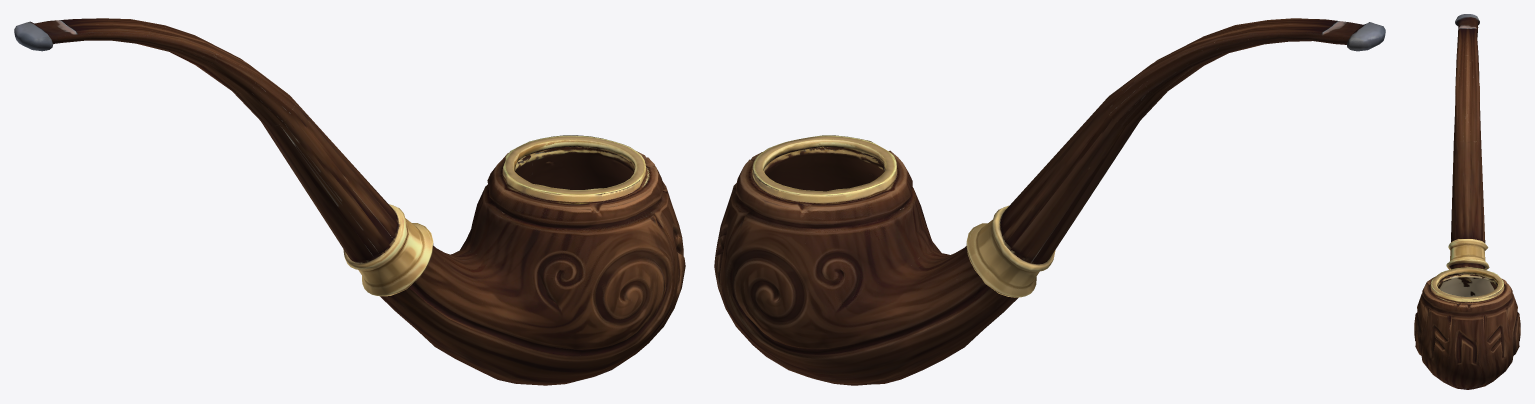
Rendered from Pipe.glb.
3 renders of one model, left to right at view 1: azimuth 30°, elevation 25°; view 2: azimuth 150°, elevation 25°; view 3: azimuth 270°, elevation 25°, orthographic. The views are drawn at different scales.
Size of the model in its own units: 0.9541 by 0.6675 by 0.27.
1 material, 1 textured.
